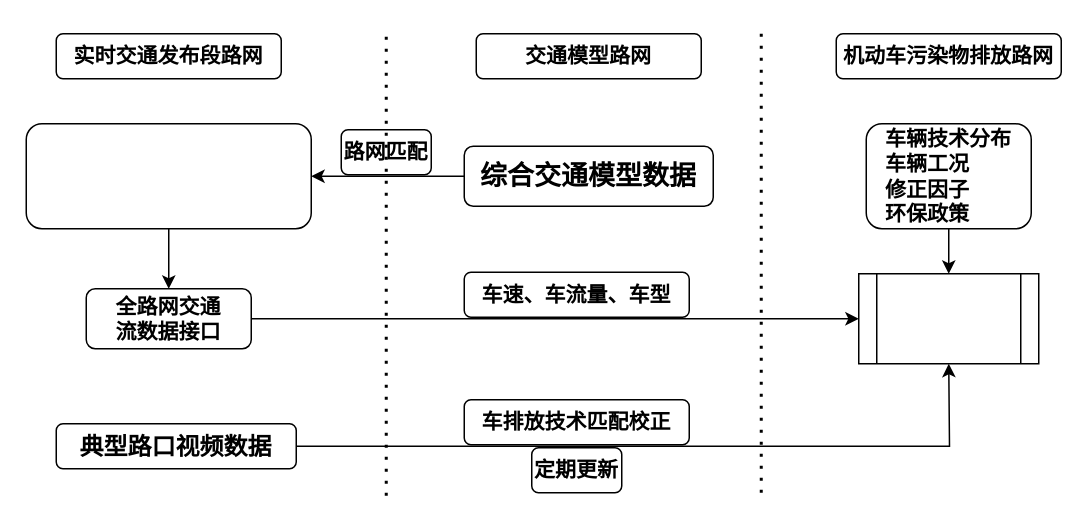
Some shapes in this 1088 by 524 pixel diagram are drawn without their labels. The centre of each missing label's shape, as x and y in pixels:
"交通发布段车速状态数据 全市地磁传感器数据 快速路交通数据" belongs at point 168,175.
"机动车污染物排放模型" belongs at point 948,318.
